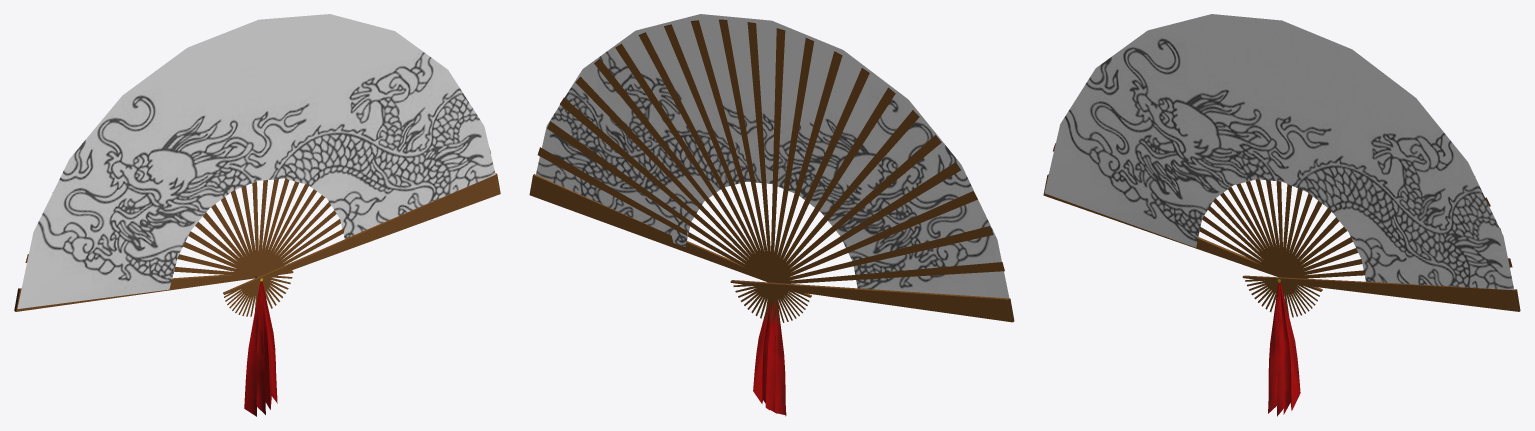
File: fan-V01.obj
3 renders of one model, left to right at view 1: azimuth 30°, elevation 25°; view 2: azimuth 150°, elevation 25°; view 3: azimuth 330°, elevation 25°, orthographic.
Visible parts, largest first — view 1: Plane002; view 2: Plane002; view 3: Plane002.
Boxes of the visible parts, box(x1,y1,x2,y2) form: Plane002: box(14, 14, 500, 416); Plane002: box(529, 14, 1014, 416); Plane002: box(1043, 14, 1520, 416).
Size of the model in its own units: 35.61 by 27.73 by 1.29.
